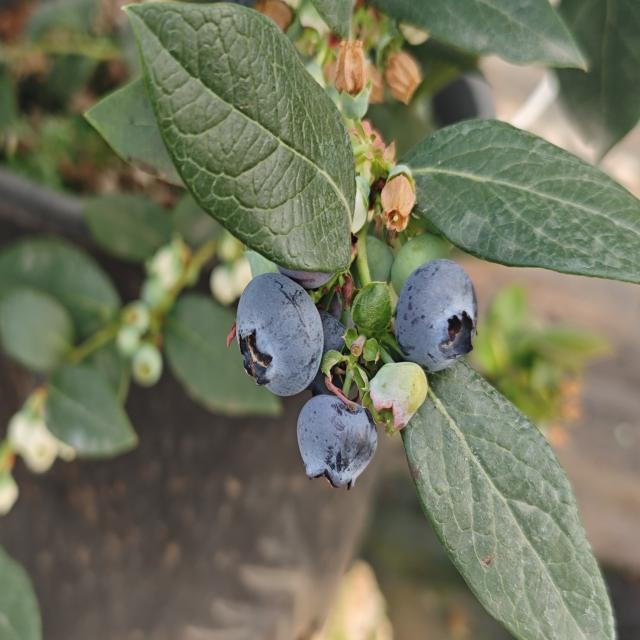ripe: (232, 270, 326, 400), (392, 256, 479, 376), (281, 248, 350, 393), (294, 392, 380, 492)
